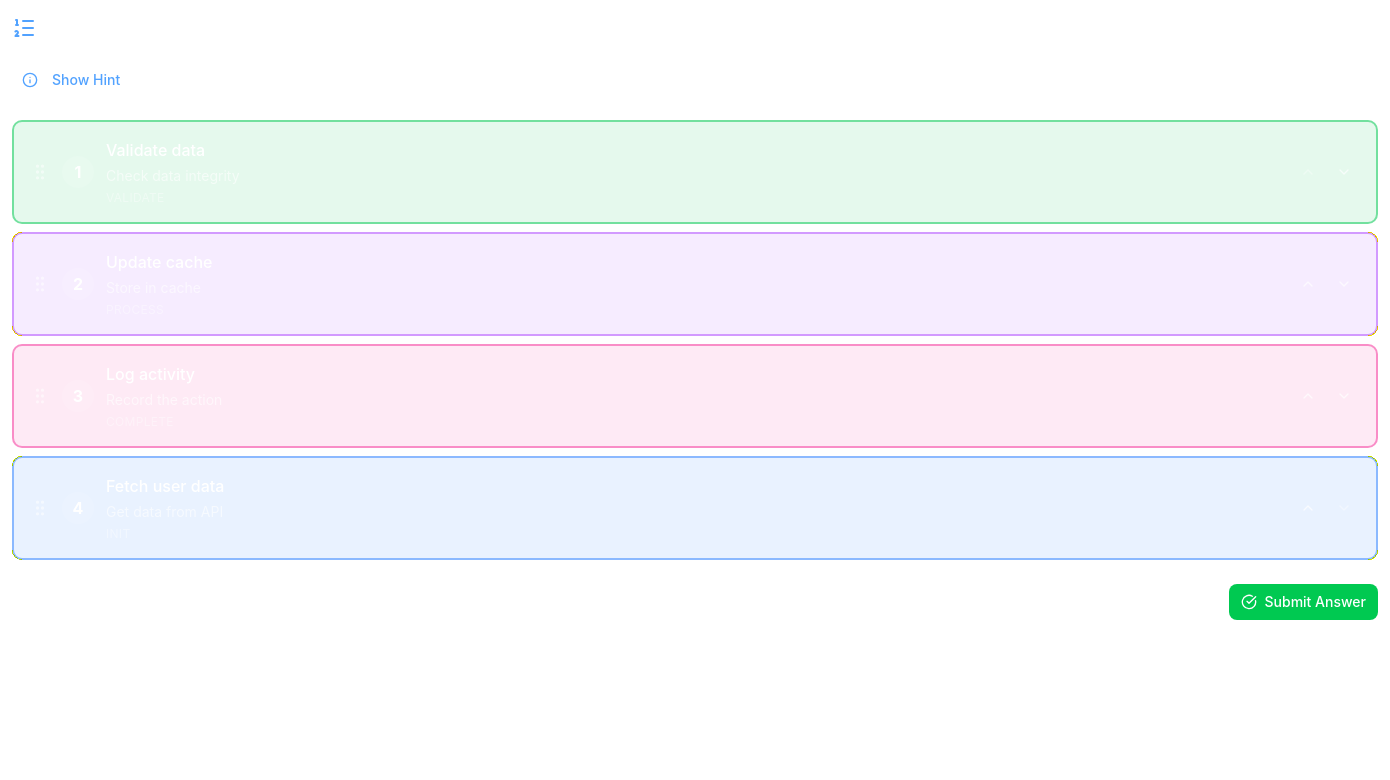
Test: SequencePuzzle › hint functionality › toggles hint text correctly
Click the button "Show Hint": (71, 80) [12,64,130,96]
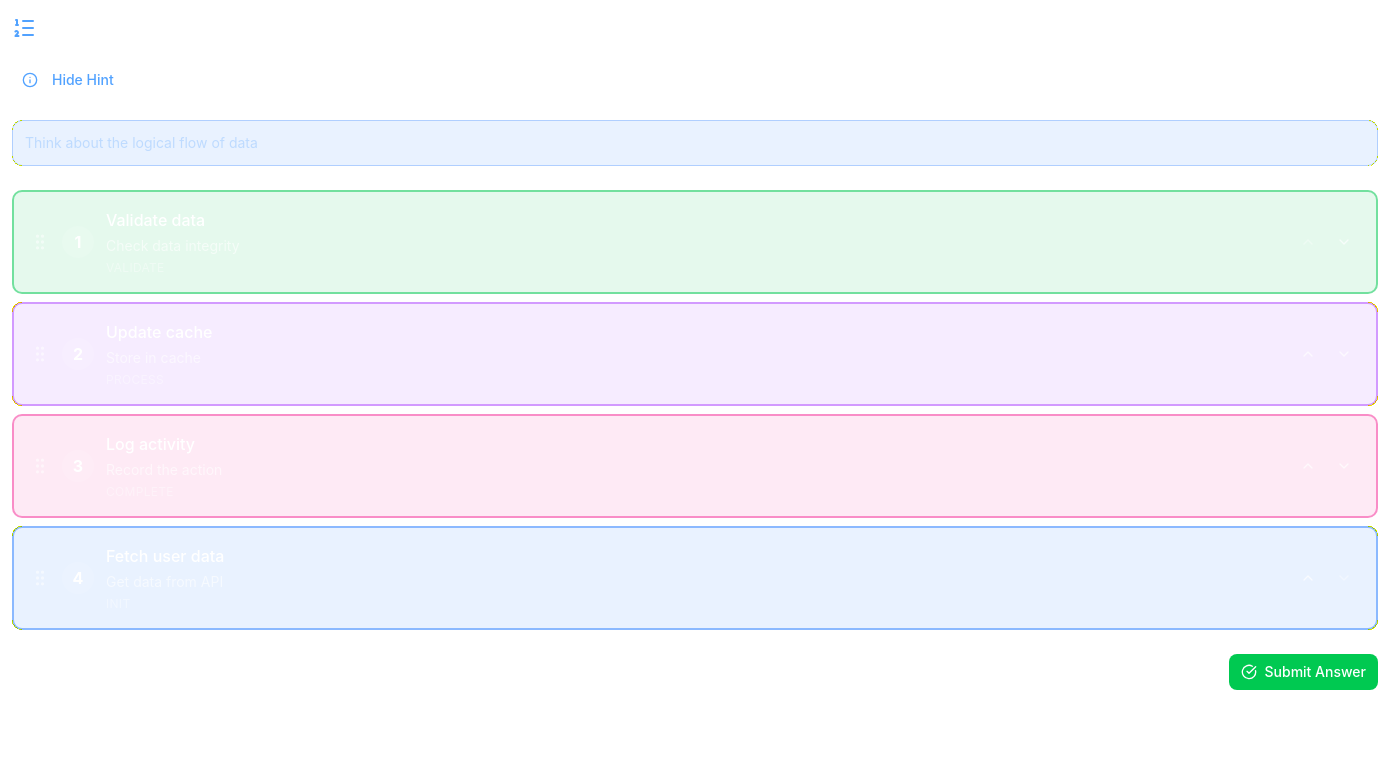
Now the button "Hide Hint" is shown
Click the button "Hide Hint": (68, 80) [12,64,124,96]
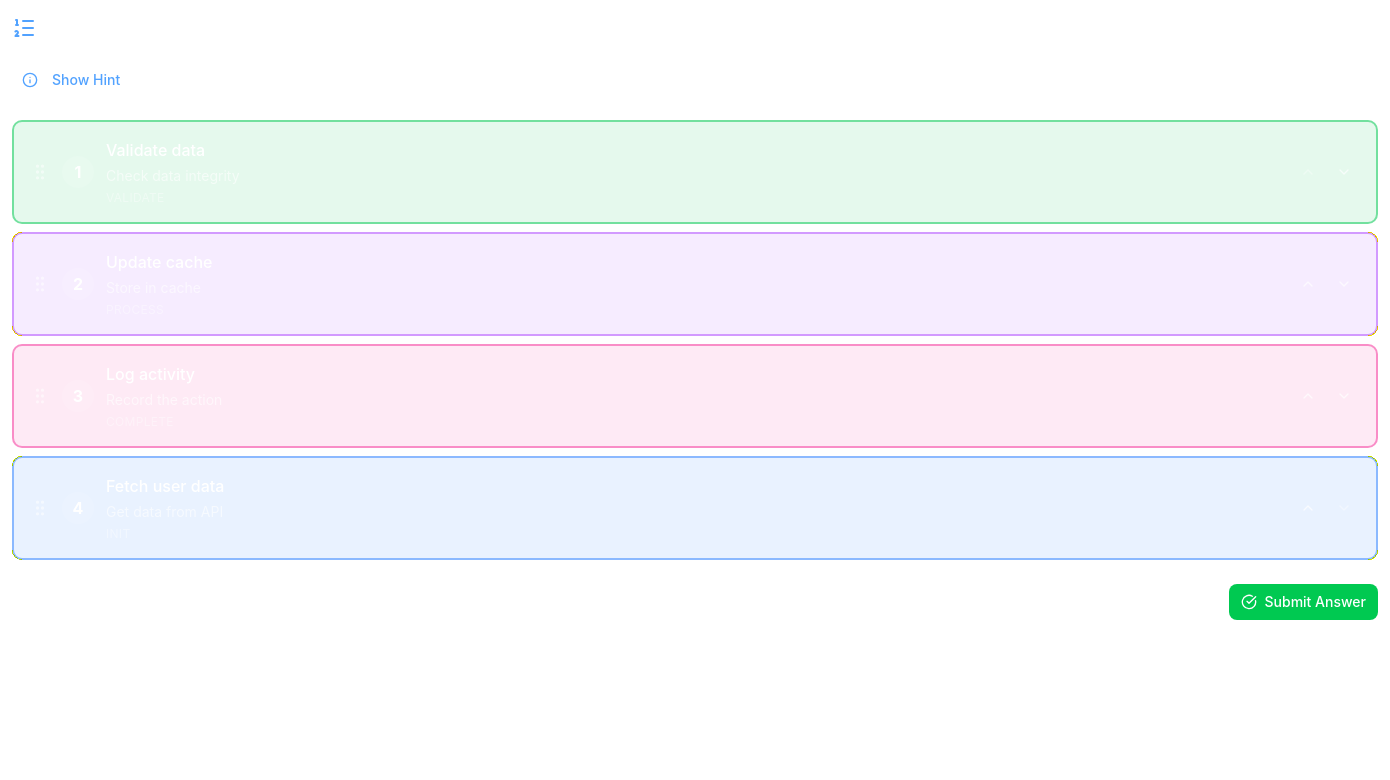
Now the text "Think about the logical flow of data" is gone
Now the button "Show Hint" is shown, box [12,64,130,96]
